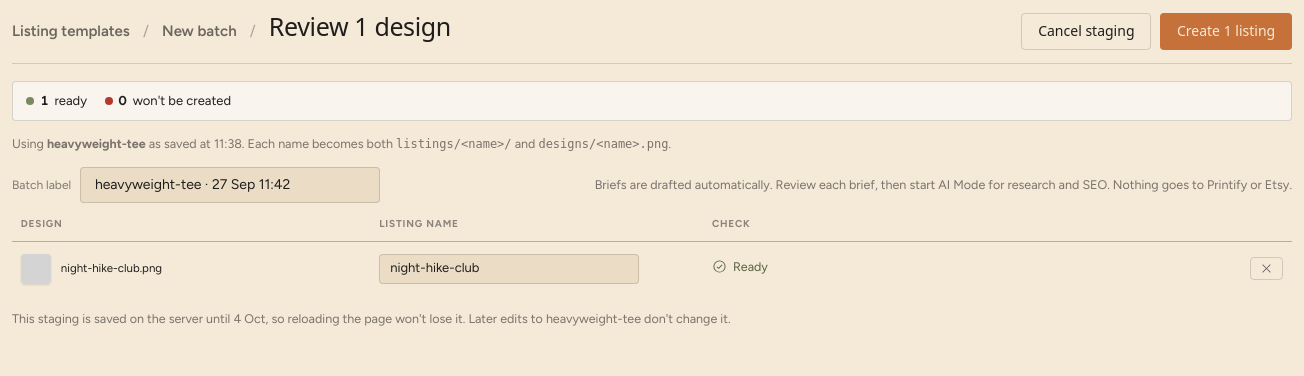
Test case: StagingPage › shows why a confirm or a load was refused
Click the button "Create 1 listing" at (1226, 31), box [1160,13,1292,50]
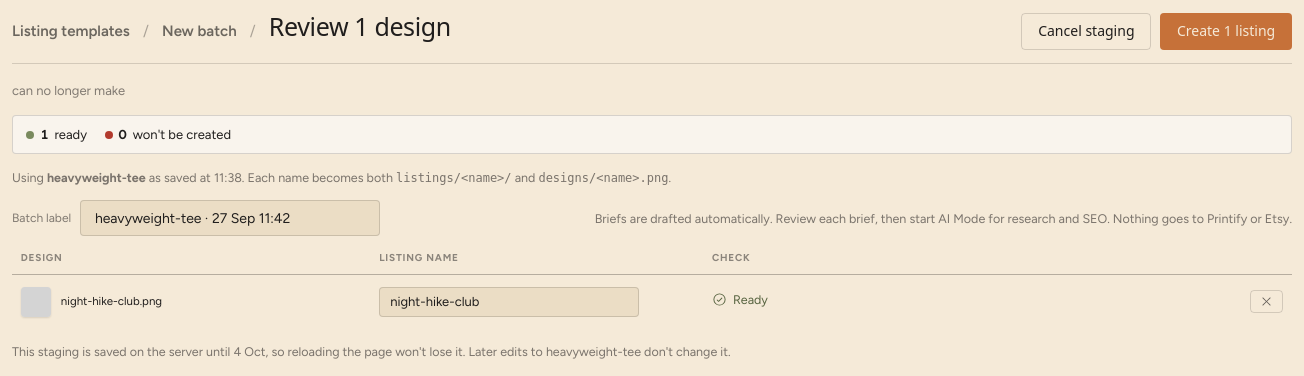
Expected: the message reads "can no longer make", [12,83,125,98]
